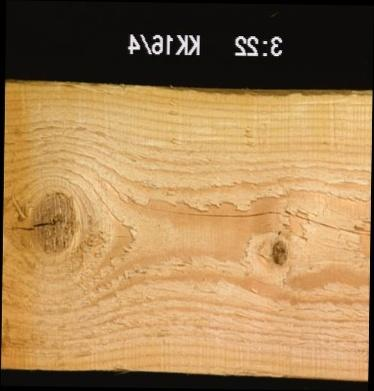sound_knot: (2, 186, 78, 259), (268, 237, 290, 266)
split: (112, 190, 369, 236)
wave: (80, 84, 370, 104)
